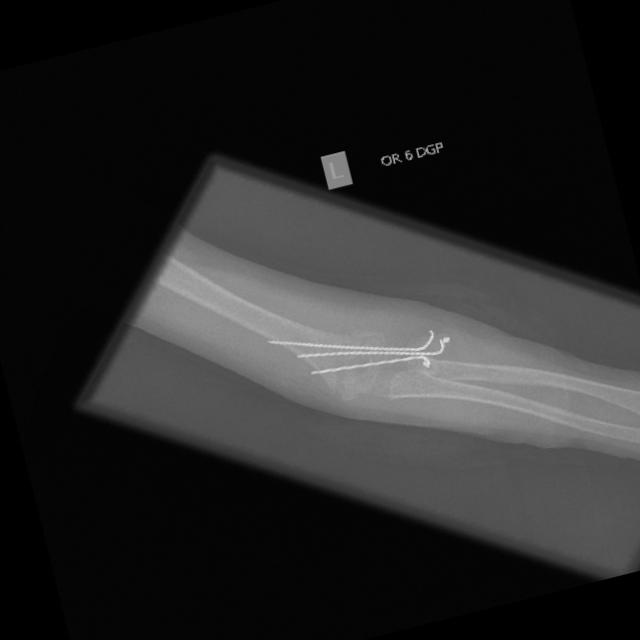elbow positive: (317, 353, 375, 416)
